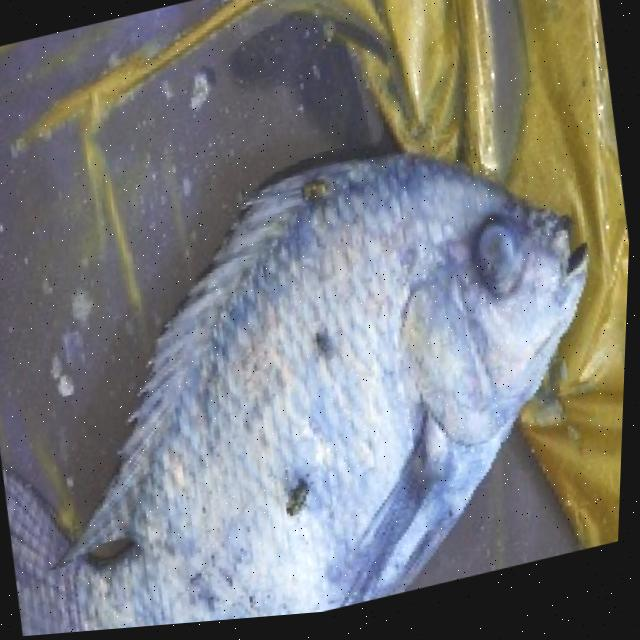Non-Fresh: (341, 173, 604, 389)
